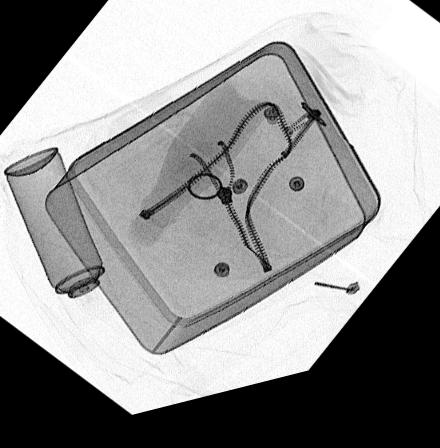Sprayer: (2, 147, 120, 331)
